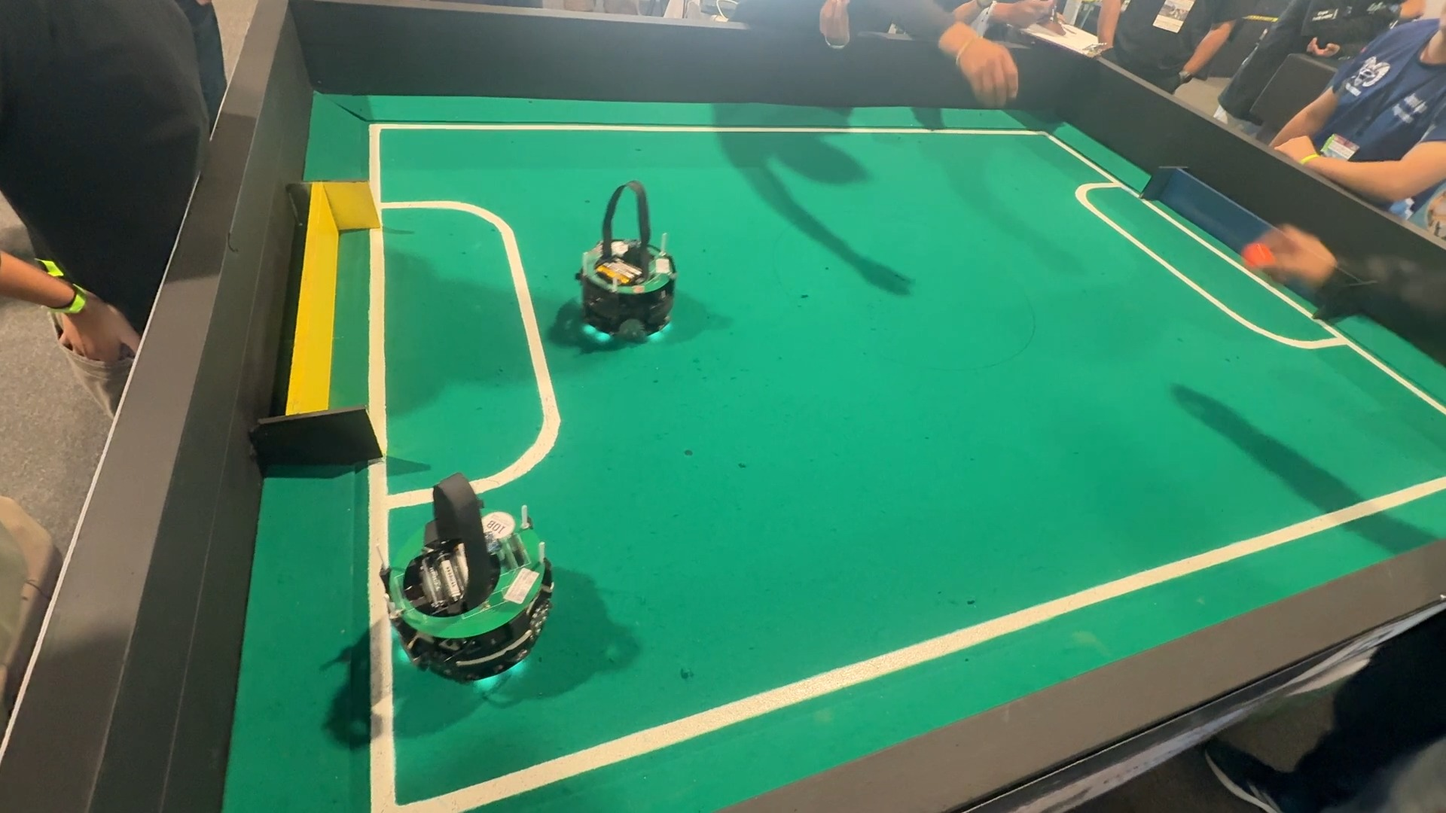Robot: (358, 464, 579, 705), (539, 175, 705, 364)
